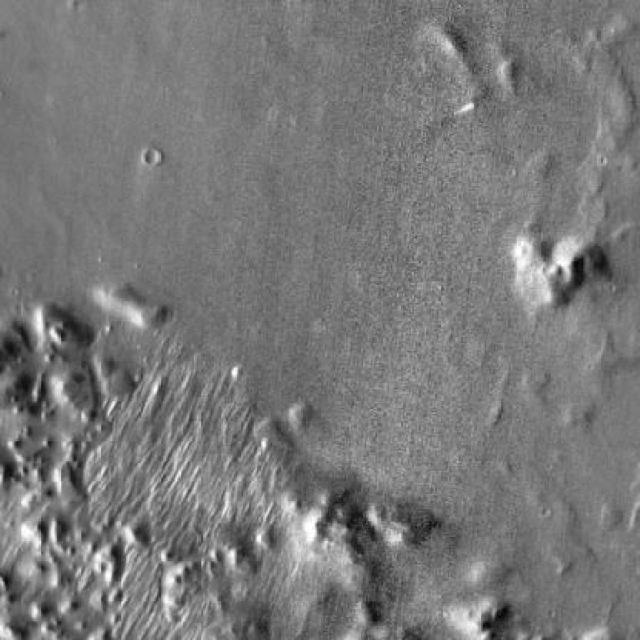crater: (448, 330, 489, 372)
